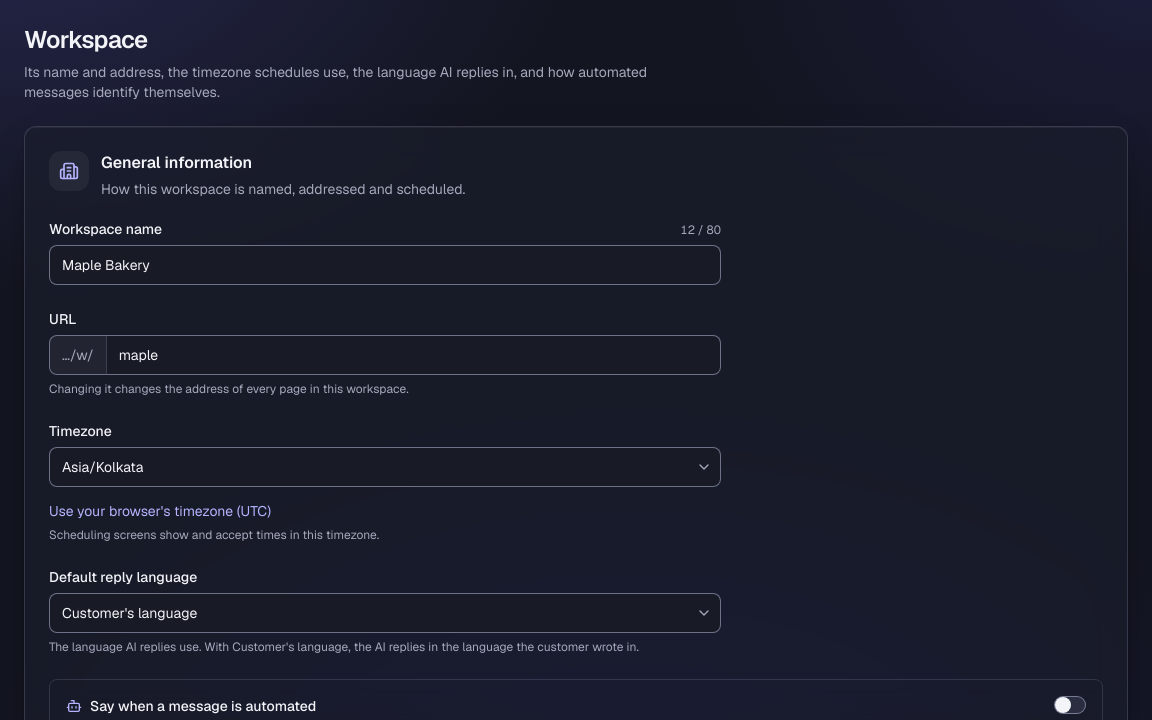
Test case: the save bar (C-066) › has no bar until something changes; Reset puts the saved values back (D-08)
This screenshot has width=1152, height=720.
Expected: the text "12 / 80" is shown, top-left (680, 222), bottom-right (721, 238)
Replace the text in the field labelled "Workspace name" with "Maple & Co": (385, 265) top-left (49, 245), bottom-right (721, 285)
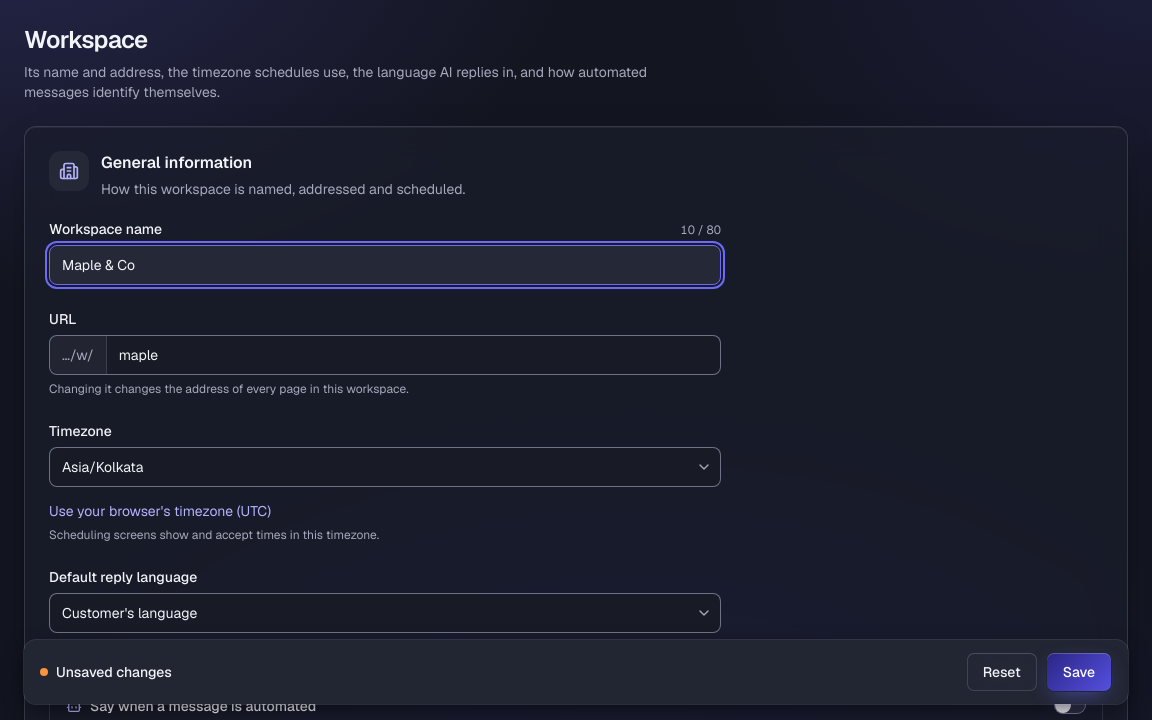
Expected: the message reads "Unsaved changes", top-left (56, 663), bottom-right (172, 681)
Expected: the text "10 / 80" is shown, top-left (680, 222), bottom-right (721, 238)
Click the button "Reset": click(1002, 672) top-left (966, 652), bottom-right (1038, 692)
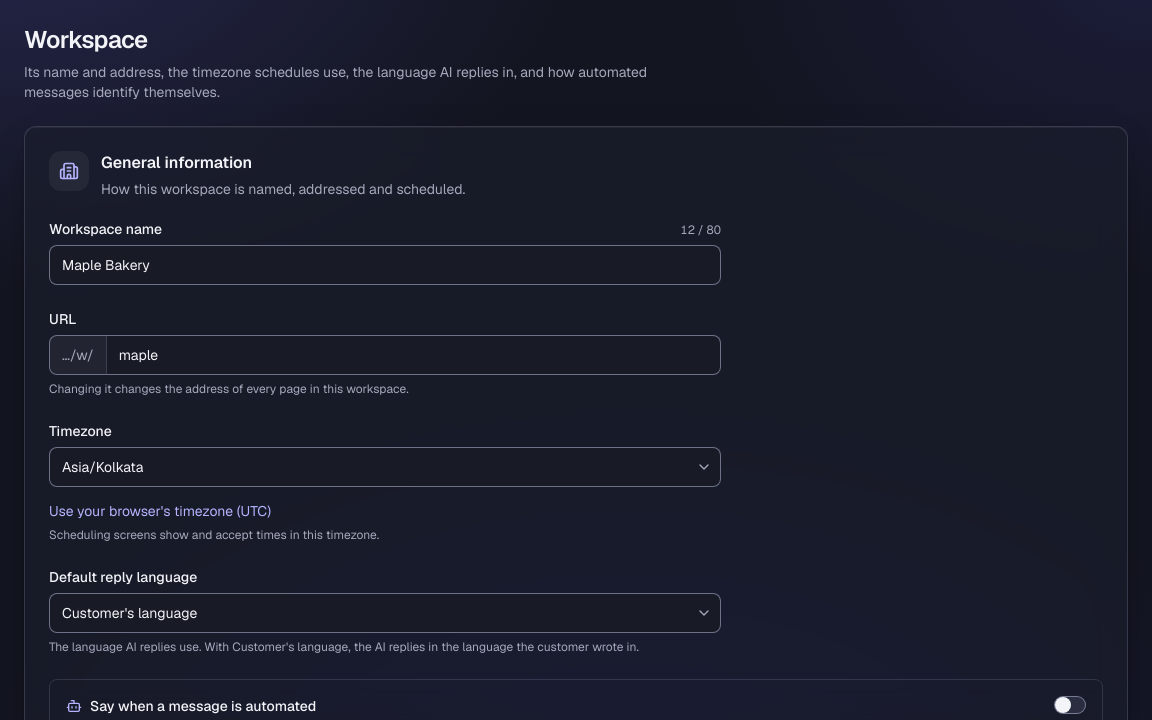
Expected: the field labelled "Workspace name" holds "Maple Bakery", top-left (49, 245), bottom-right (721, 285)
